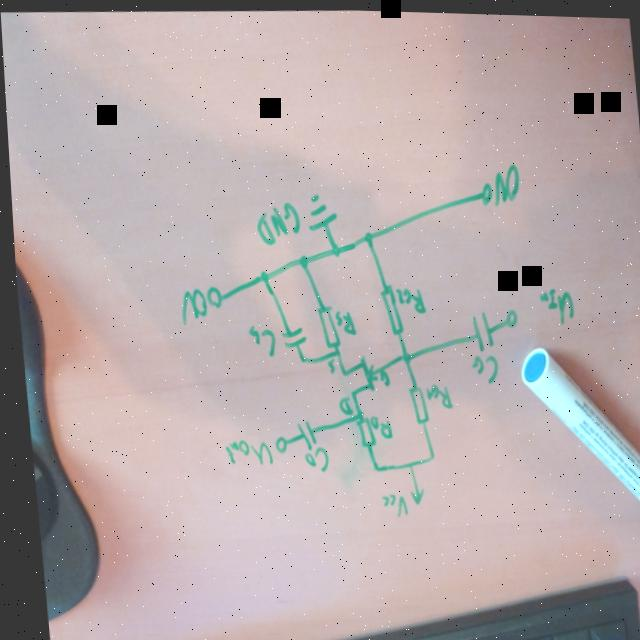capacitor: (464, 308, 491, 350), (289, 417, 312, 449), (276, 324, 302, 347)
ground: (303, 189, 336, 233)
junction: (394, 346, 408, 363), (293, 252, 307, 267), (326, 241, 339, 257), (360, 228, 371, 243), (255, 268, 265, 282), (294, 352, 302, 365), (366, 462, 376, 472), (399, 458, 408, 468), (350, 407, 359, 417), (329, 346, 337, 356), (422, 450, 430, 459)
resistor: (374, 279, 400, 335), (312, 302, 336, 347), (403, 382, 423, 422), (351, 414, 370, 446)
source: (402, 483, 420, 503)
terminal: (201, 284, 220, 310), (475, 178, 491, 203), (499, 305, 515, 325), (268, 433, 282, 453)
text: (251, 199, 300, 246), (533, 284, 572, 323), (489, 159, 521, 205), (218, 437, 268, 466), (176, 287, 204, 326), (465, 350, 496, 382), (391, 283, 424, 313), (244, 323, 272, 356), (420, 380, 449, 408), (297, 443, 324, 471), (374, 490, 402, 516), (362, 413, 389, 439), (331, 308, 353, 334), (332, 394, 348, 415), (372, 367, 386, 386), (321, 356, 333, 372)
transistor: (338, 353, 375, 395)
